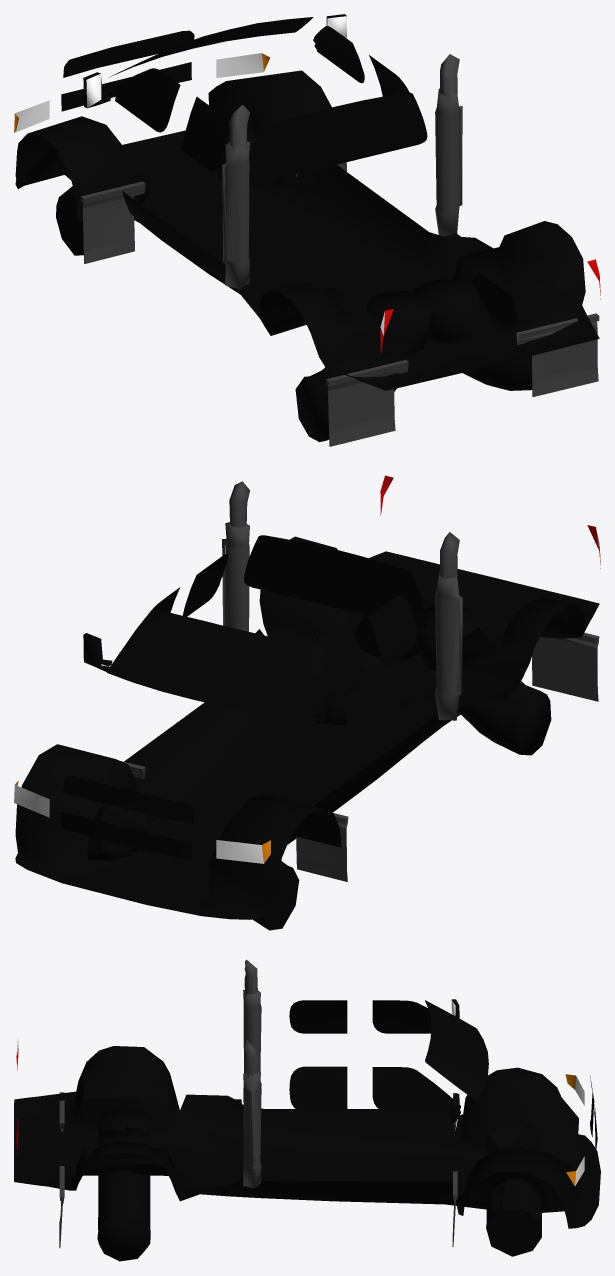
The model's file is gta_truck_body.obj.
3 renders of one model, top to bottom at view 1: azimuth 30°, elevation 25°; view 2: azimuth 150°, elevation 25°; view 3: azimuth 270°, elevation 25°, orthographic. The views are drawn at different scales.
Visible parts, largest first — view 1: gta_truck_body_GuardyMesh.006; view 2: gta_truck_body_GuardyMesh.006; view 3: gta_truck_body_GuardyMesh.006.
Boxes of the visible parts, x1=… form: gta_truck_body_GuardyMesh.006: x1=14, y1=14, x2=600, y2=446; gta_truck_body_GuardyMesh.006: x1=14, y1=475, x2=600, y2=930; gta_truck_body_GuardyMesh.006: x1=14, y1=959, x2=600, y2=1261.
Size of the model in its own units: 4.52 by 4.31 by 10.45.
